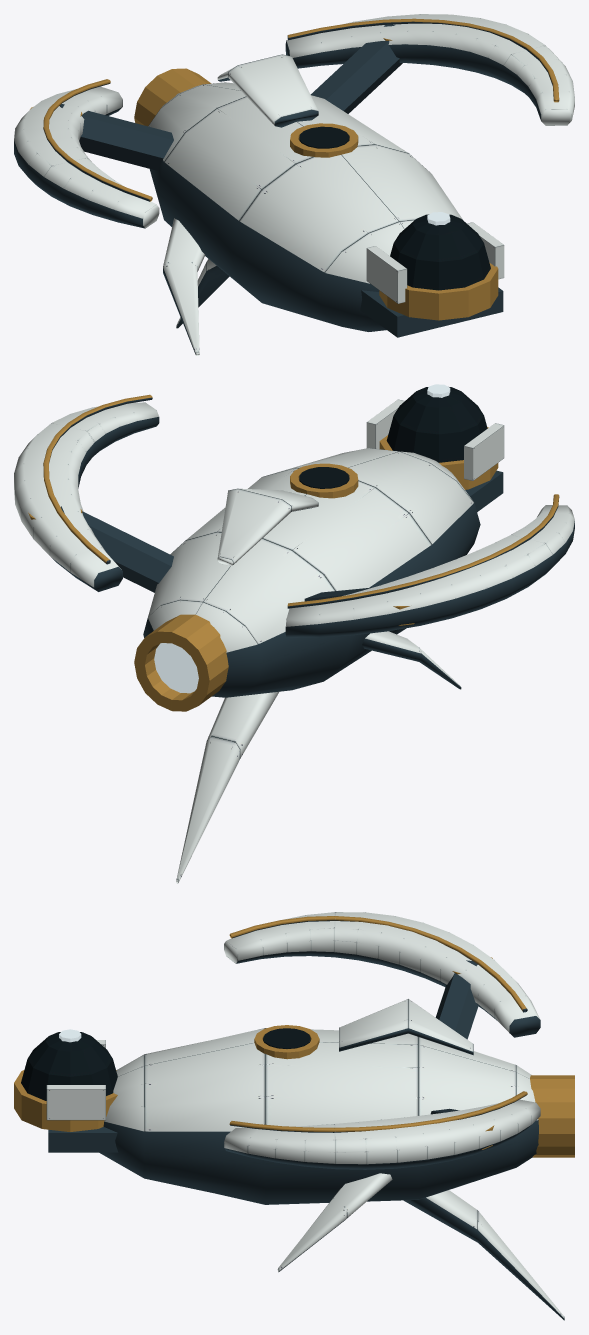
Rendered from pioneer-europa-l05-shield.glb.
The picture shows the model from 3 angles, top to bottom: view 1: azimuth 30°, elevation 25°; view 2: azimuth 150°, elevation 25°; view 3: azimuth 270°, elevation 25°; orthographic projection. The views are drawn at different scales.
Visible parts, largest first — view 1: Drone; view 2: Drone; view 3: Drone.
Part boxes in pixels (<box>): Drone: <box>14,14,574,355</box>; Drone: <box>14,384,574,883</box>; Drone: <box>14,912,574,1320</box>.
Bounding box in the file's own units: 1.28 × 0.791 × 1.29.
3 materials, 3 textured.
